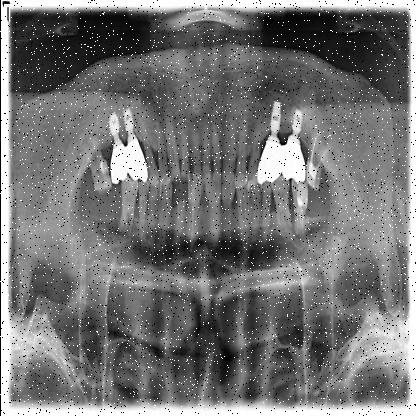Bicon: (290, 102, 306, 144), (268, 99, 284, 141), (122, 104, 137, 139), (107, 110, 119, 144)
